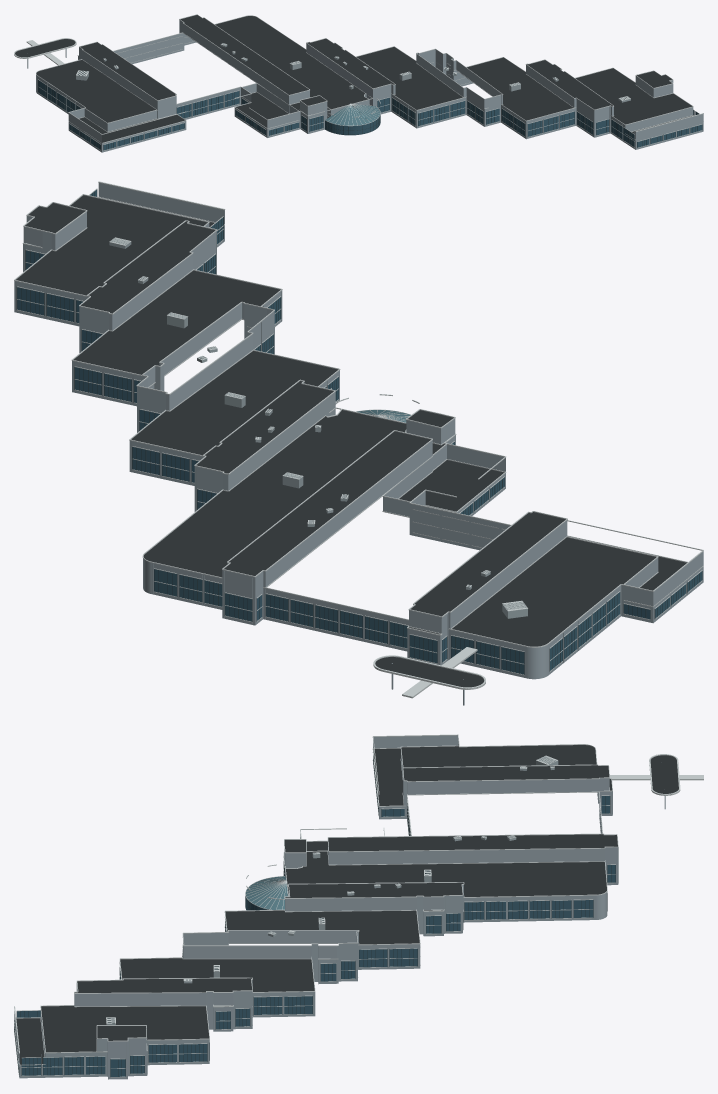
File: Worldwide Stages - Building Only.glb
3 views of the same model, one above another, from view 1: azimuth 30°, elevation 25°; view 2: azimuth 150°, elevation 25°; view 3: azimuth 270°, elevation 25° (orthographic). The views are drawn at different scales.
Visible parts, largest first — view 1: Main roof membrane, Campus wall envelope | survey roof transitions, Exterior glazed bays, Roof edge coping Main roof, Facade vertical mullions, Tall roof 6 membrane, Facade horizontal frames, Tall roof 7 membrane, Tall roof 5 membrane, Tall roof 1 membrane, Low wing 4 membrane, Atrium fan glass (+15 smaller); view 2: Main roof membrane, Campus wall envelope | survey roof transitions, Exterior glazed bays, Tall roof 6 membrane, Roof edge coping Main roof, Facade vertical mullions, Tall roof 7 membrane, Tall roof 5 membrane, Tall roof 1 membrane, Facade horizontal frames, Low wing 3 membrane, Building 400 entrance canopy (+5 smaller); view 3: Main roof membrane, Campus wall envelope | survey roof transitions, Exterior glazed bays, Tall roof 6 membrane, Roof edge coping Main roof, Facade vertical mullions, Tall roof 7 membrane, Tall roof 5 membrane, Tall roof 1 membrane, Facade horizontal frames, Low wing 4 membrane, Atrium fan glass (+9 smaller).
Boxes of the visible parts, x1,y1,x2,y2 form: Main roof membrane: (36, 16, 692, 124); Campus wall envelope | survey roof transitions: (36, 20, 703, 152); Exterior glazed bays: (38, 80, 702, 150); Roof edge coping Main roof: (36, 15, 703, 134); Facade vertical mullions: (38, 80, 702, 150); Tall roof 6 membrane: (180, 15, 308, 94); Facade horizontal frames: (38, 36, 702, 150); Tall roof 7 membrane: (80, 42, 175, 100); Tall roof 5 membrane: (307, 38, 394, 88); Tall roof 1 membrane: (527, 60, 612, 109); Low wing 4 membrane: (79, 115, 184, 142); Atrium fan glass: (325, 104, 380, 125); Main roof membrane: (16, 195, 656, 646); Campus wall envelope | survey roof transitions: (14, 183, 703, 679); Exterior glazed bays: (17, 189, 702, 674); Tall roof 6 membrane: (224, 431, 430, 575); Roof edge coping Main roof: (14, 181, 703, 647); Facade vertical mullions: (16, 189, 702, 674); Tall roof 7 membrane: (411, 512, 565, 616); Tall roof 5 membrane: (196, 381, 333, 473); Tall roof 1 membrane: (81, 221, 215, 313); Facade horizontal frames: (17, 188, 702, 675); Low wing 3 membrane: (399, 460, 504, 511); Building 400 entrance canopy: (375, 657, 484, 687); Main roof membrane: (41, 745, 612, 1052); Campus wall envelope | survey roof transitions: (14, 735, 618, 1079); Exterior glazed bays: (17, 796, 615, 1076); Tall roof 6 membrane: (328, 834, 617, 851); Roof edge coping Main roof: (14, 734, 612, 1053); Facade vertical mullions: (14, 756, 615, 1076); Tall roof 7 membrane: (403, 765, 609, 781); Tall roof 5 membrane: (285, 882, 463, 897); Tall roof 1 membrane: (75, 978, 252, 992); Facade horizontal frames: (14, 752, 615, 1077); Low wing 4 membrane: (373, 748, 403, 805); Atrium fan glass: (245, 876, 287, 909).
Bounding box in the file's own units: 254 × 15.11 × 231.
